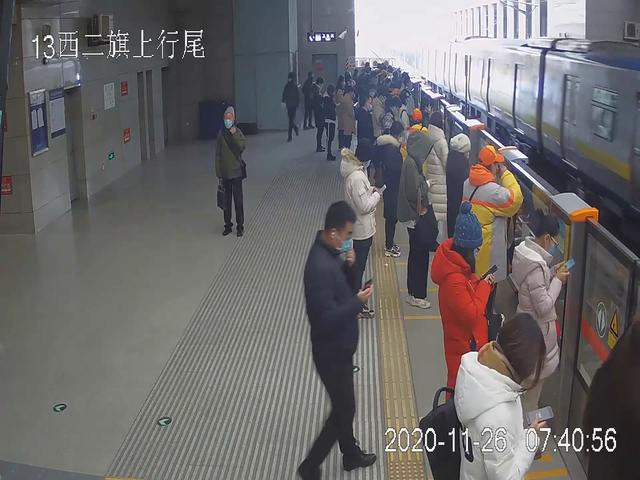person: (297, 198, 379, 480), (450, 313, 551, 480), (508, 213, 571, 458), (432, 202, 495, 405), (459, 144, 521, 316), (339, 137, 384, 321), (396, 132, 435, 310), (215, 103, 249, 239), (424, 108, 450, 251), (281, 71, 302, 143), (322, 82, 338, 161), (311, 76, 327, 153)
